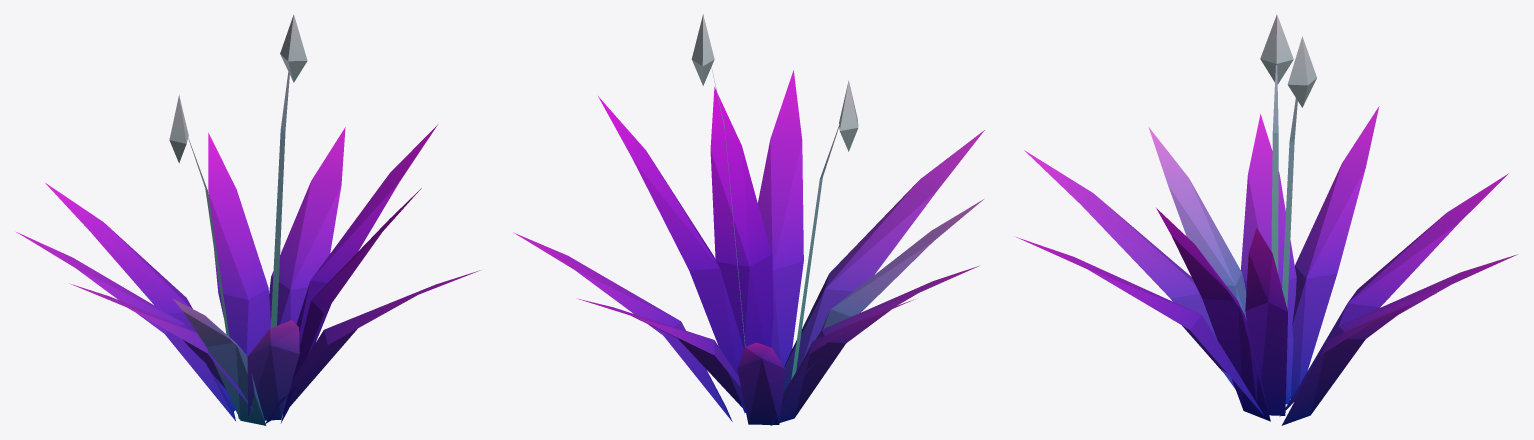
File: SM_CinderFrontier_Grass_A.fbx
3 views of the same model, side by side, from view 1: azimuth 30°, elevation 25°; view 2: azimuth 150°, elevation 25°; view 3: azimuth 270°, elevation 25° (orthographic). The views are drawn at different scales.
Parts seen in each view (by area): view 1: SM_CinderFrontier_Grass_A; view 2: SM_CinderFrontier_Grass_A; view 3: SM_CinderFrontier_Grass_A.
Boxes of the visible parts, x1=… form: SM_CinderFrontier_Grass_A: x1=16, y1=14, x2=480, y2=425; SM_CinderFrontier_Grass_A: x1=513, y1=14, x2=984, y2=425; SM_CinderFrontier_Grass_A: x1=1016, y1=14, x2=1517, y2=425.
Bounding box in the file's own units: 35.17 × 40 × 34.57.
